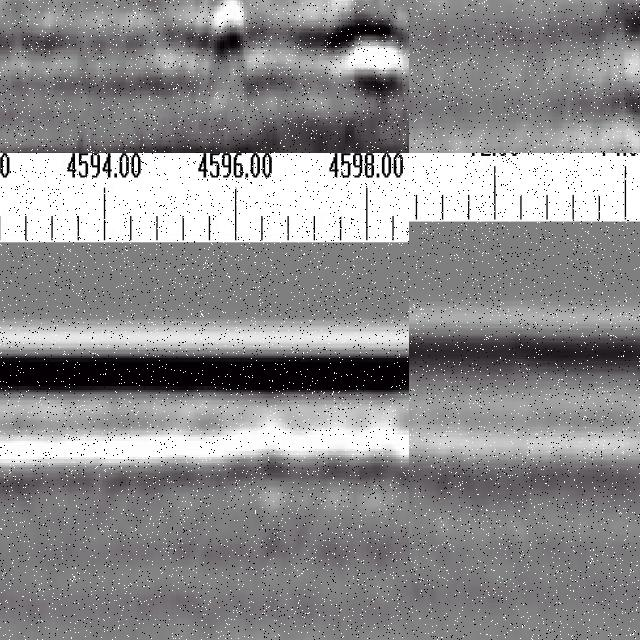loose: (171, 1, 410, 127), (537, 1, 640, 144), (1, 435, 50, 620)
